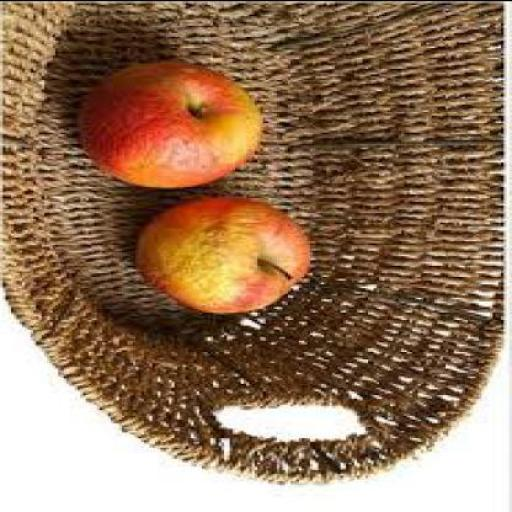biodegradable: (77, 62, 266, 190), (133, 197, 313, 315)
